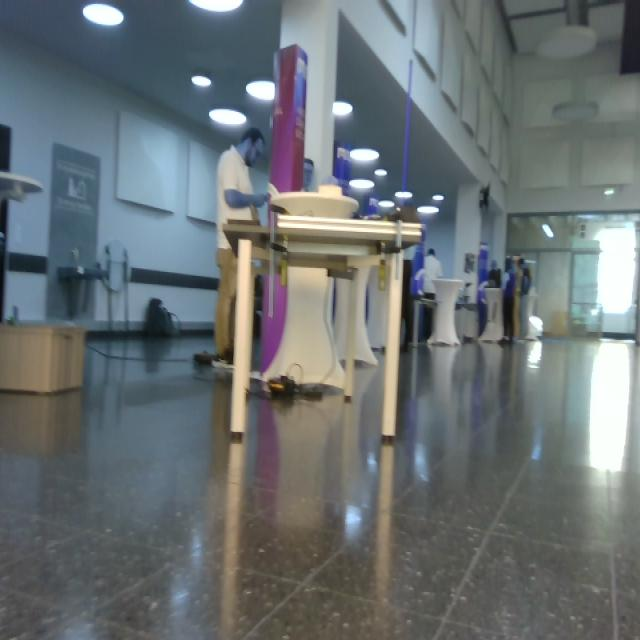door: (537, 249, 571, 338)
light bulb: (537, 24, 597, 61), (1, 171, 44, 203), (82, 3, 125, 27), (553, 100, 599, 122), (209, 108, 247, 126), (189, 1, 244, 13), (246, 80, 276, 101), (350, 148, 380, 162), (333, 101, 353, 117), (191, 74, 212, 88), (349, 178, 375, 189), (417, 205, 440, 214), (395, 190, 413, 200), (542, 224, 554, 238), (378, 201, 395, 208), (375, 169, 388, 177), (433, 194, 445, 201)
person: (215, 126, 272, 364)
table: (222, 191, 428, 447)
tiled floor: (2, 328, 639, 638)
